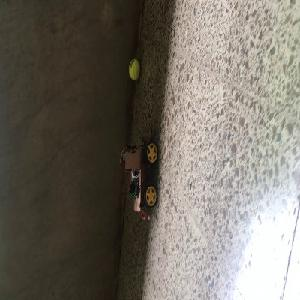Ball: (129, 59, 140, 80)
Robot: (120, 127, 158, 212)
